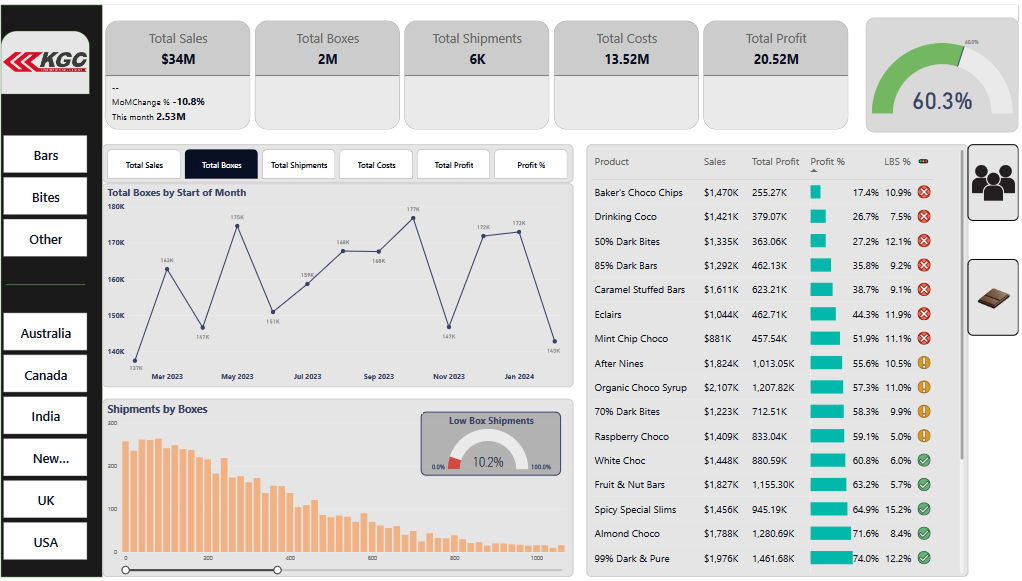

This screenshot's page, from the dashboard's own definition file:
{"tool":"powerbi","page":{"name":"Page 3","canvas":[1920,1080],"ordinal":2},"visuals":[{"type":"cardVisual","fields":{"Data":["_Measures.Total Sales","_Measures.Total Boxes","_Measures.Total Shipments","_Measures.Total Costs","_Measures.Total Profit"]},"box":[168,24,1440,216],"z":0},{"type":"gauge","fields":{"Y":["_Measures.Profit %"]},"box":[1632,24,288,216],"z":1000},{"type":"lineChart","fields":{"Y":["_Measures.Total Shipments"],"Category":["calendar.Start of Month"]},"box":[168,336,912,384],"z":2000},{"type":"advancedSlicerVisual","fields":{"Values":["Measure Selector.Measure Selector"]},"box":[168,264,912,72],"z":3000},{"type":"columnChart","fields":{"Category":["shipments.Boxes (bins)"],"Y":["_Measures.Total Shipments"]},"box":[168,744,912,336],"z":4000},{"type":"gauge","title":"Low Box Shipments","fields":{"Y":["_Measures.LBS %"]},"box":[648,768,288,120],"z":5000},{"type":"tableEx","title":"Product Details","fields":{"Values":["products.Product","_Measures.Total Sales","_Measures.Total Profit","_Measures.Profit %","_Measures.LBS %","_Measures.Profit target indicator"]},"box":[1128,264,768,816],"z":7000},{"type":"image","title":"People Icon","box":[1800,264,120,120],"z":8000},{"type":"image","title":"Product Icon","box":[1800,384,120,168],"z":9000}]}

Visuals, with their boxes in screenshot pixels (x1, y1, x2, y2), scaled from the page's 1920x1080 canvas onto the 1022x581 screenshot:
cardVisual - _Measures.Total Sales x _Measures.Total Boxes: [x1=89, y1=13, x2=856, y2=129]
gauge - _Measures.Profit %: [x1=869, y1=13, x2=1021, y2=129]
lineChart - _Measures.Total Shipments x calendar.Start of Month: [x1=89, y1=181, x2=575, y2=387]
advancedSlicerVisual - Measure Selector.Measure Selector: [x1=89, y1=142, x2=575, y2=181]
columnChart - shipments.Boxes (bins) x _Measures.Total Shipments: [x1=89, y1=400, x2=575, y2=580]
"Low Box Shipments" gauge: [x1=345, y1=413, x2=498, y2=478]
"Product Details" tableEx: [x1=600, y1=142, x2=1009, y2=580]
"People Icon" image: [x1=958, y1=142, x2=1021, y2=207]
"Product Icon" image: [x1=958, y1=207, x2=1021, y2=297]
